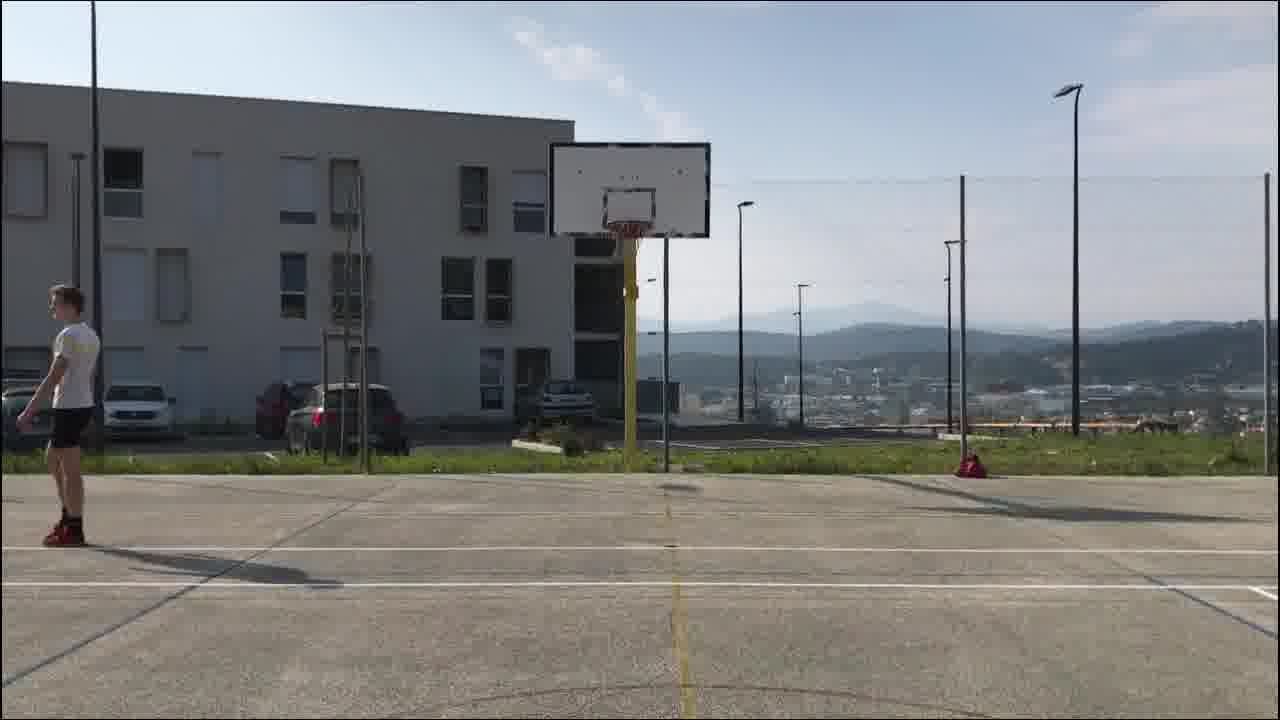jugador: (6, 273, 112, 554)
